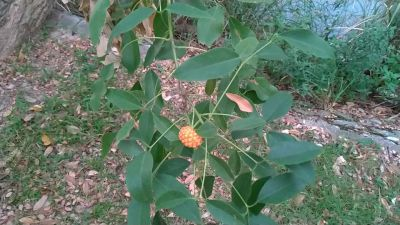eggs: (178, 123, 202, 149)
